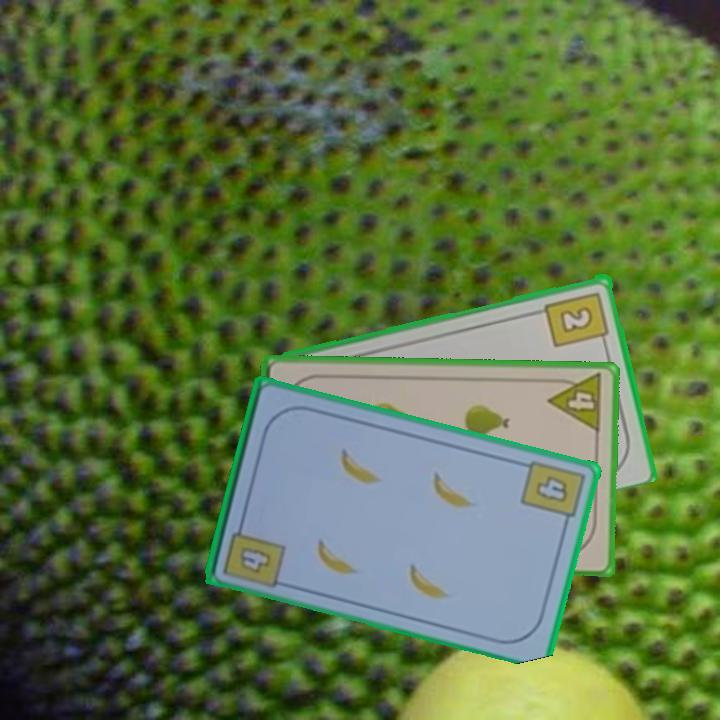2b: (542, 288, 612, 350)
4b: (517, 456, 588, 531), (236, 542, 275, 576)
4p: (545, 370, 606, 435)
